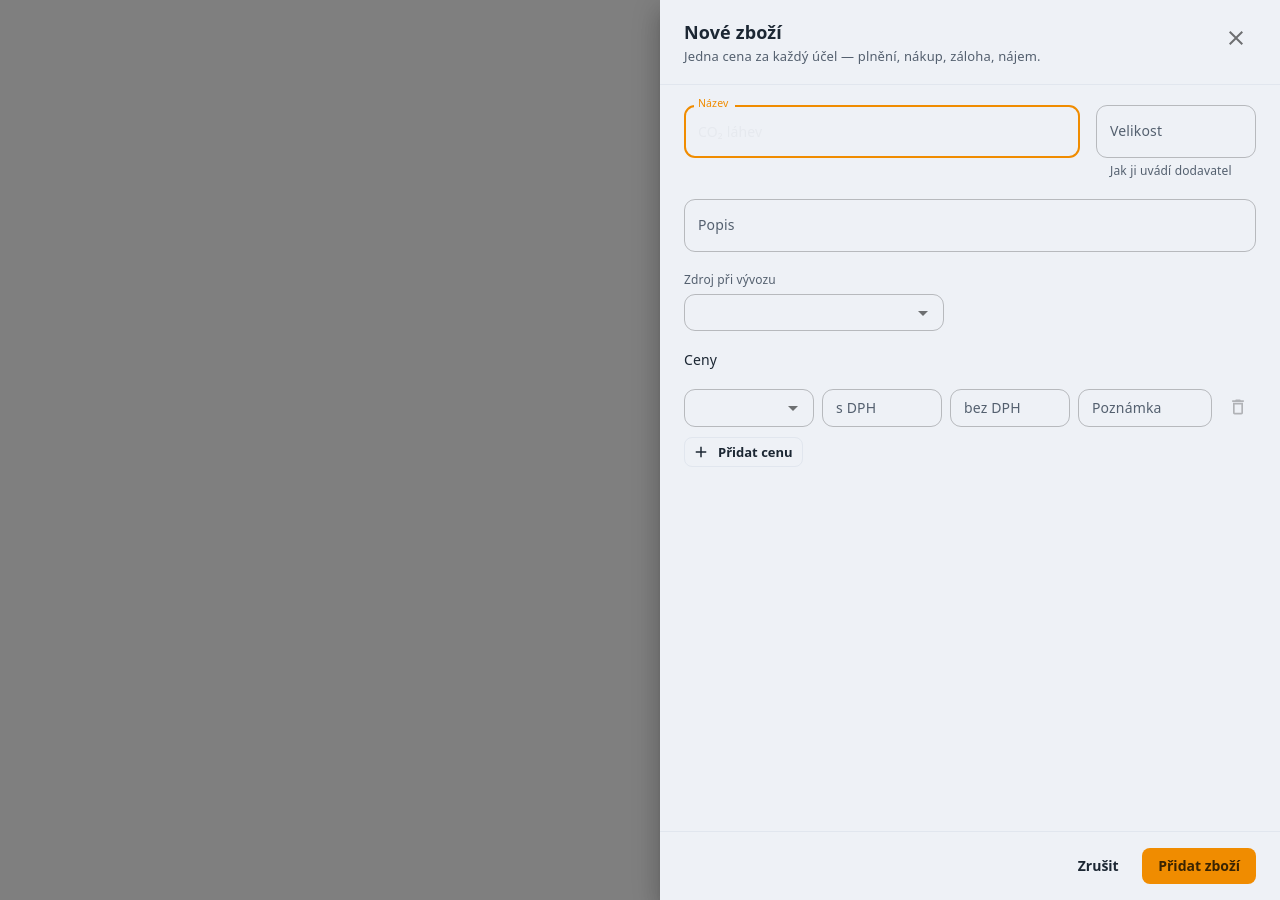
Test: SupplierGoodDrawer › refuses to save without a name
Type "450" into the field labelled "s DPH" at coordinates (882, 408), box [822,390,942,427]
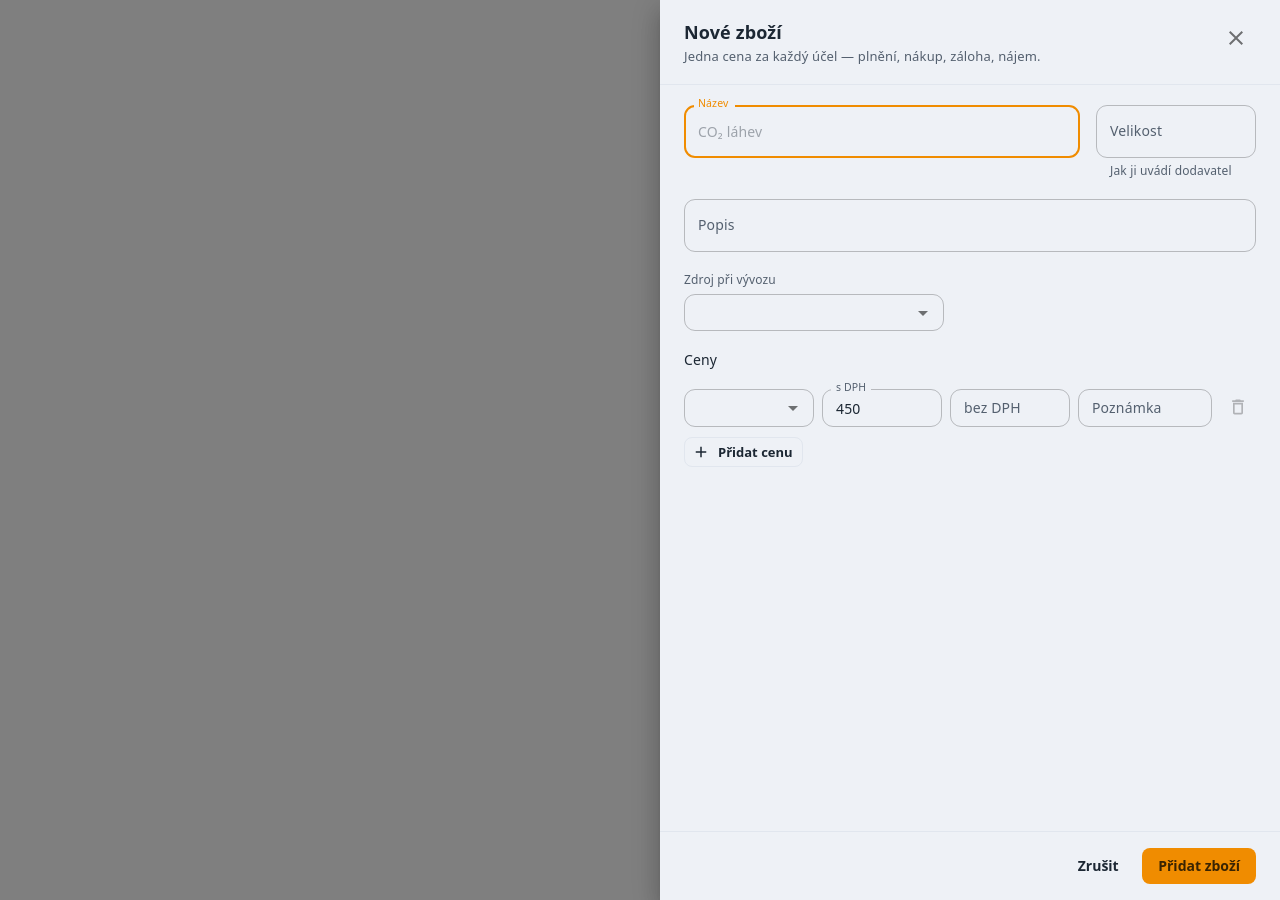
Click the button "Přidat zboží" at coordinates (1199, 866), box [1142,848,1256,884]
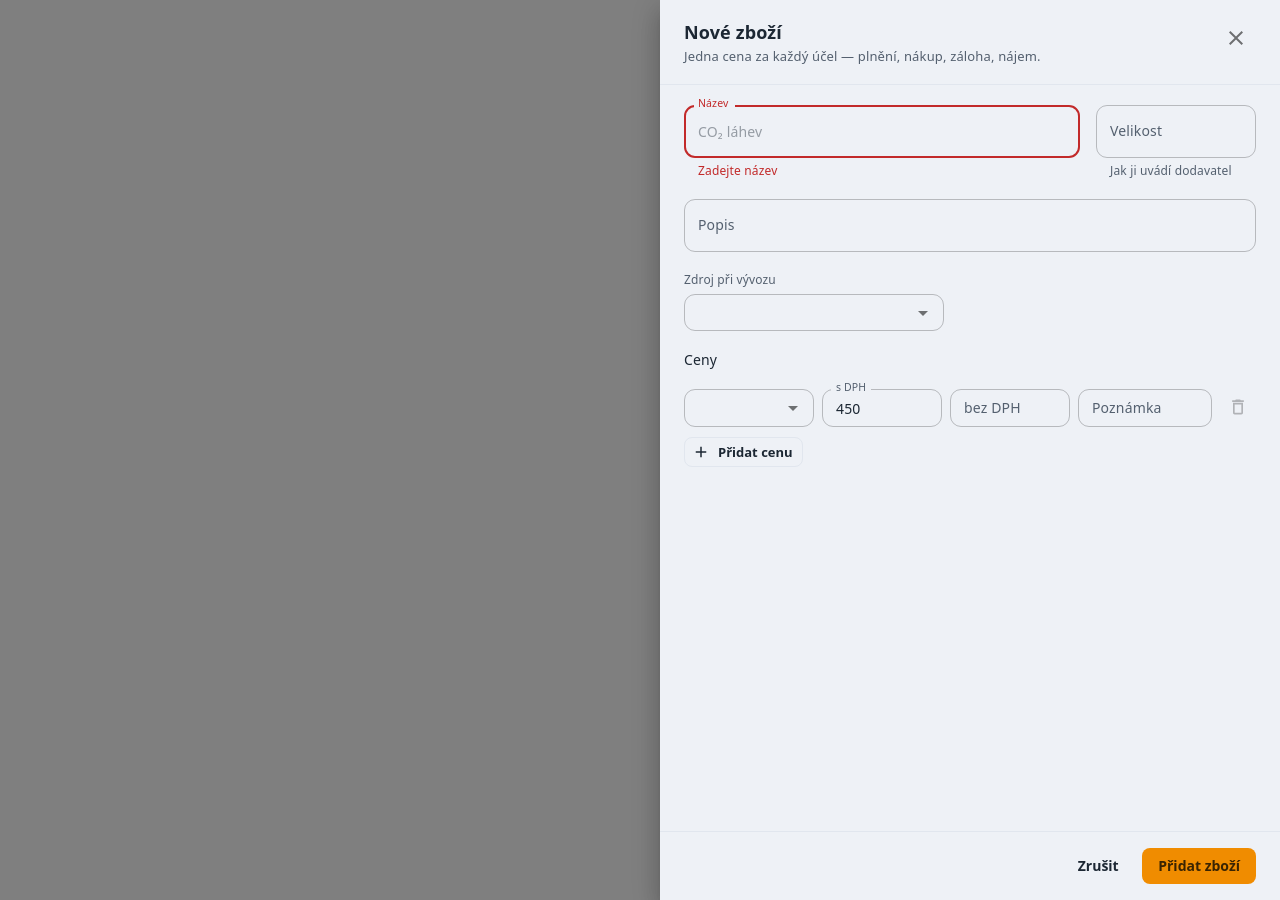
Now the text "Zadejte název" is shown, box [698,162,777,179]
